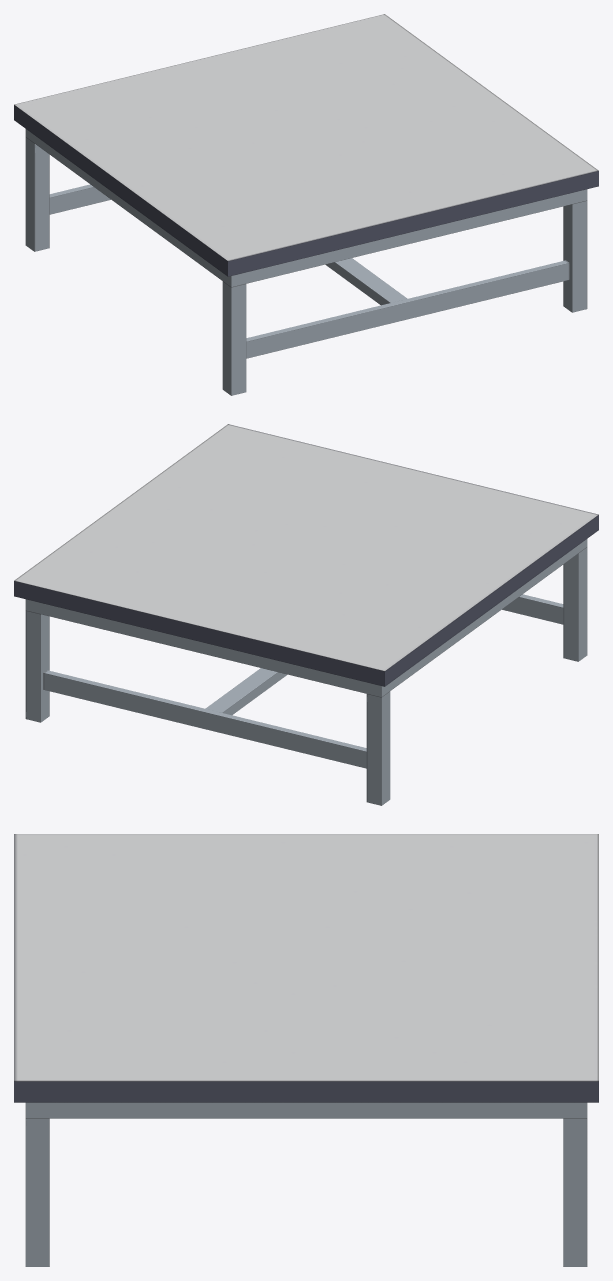
Rendered from Table_01.FBX.
3 renders of one model, top to bottom at view 1: azimuth 30°, elevation 25°; view 2: azimuth 150°, elevation 25°; view 3: azimuth 270°, elevation 25°, orthographic. The views are drawn at different scales.
Visible parts, largest first — view 1: Table_01; view 2: Table_01; view 3: Table_01.
Part boxes in pixels (x1,y1,x2,y2): Table_01: (14,14,598,395); Table_01: (14,424,598,805); Table_01: (14,834,598,1266).
Bounding box in the file's own units: 1.56 × 0.5623 × 1.56.
1 material, 1 textured.
